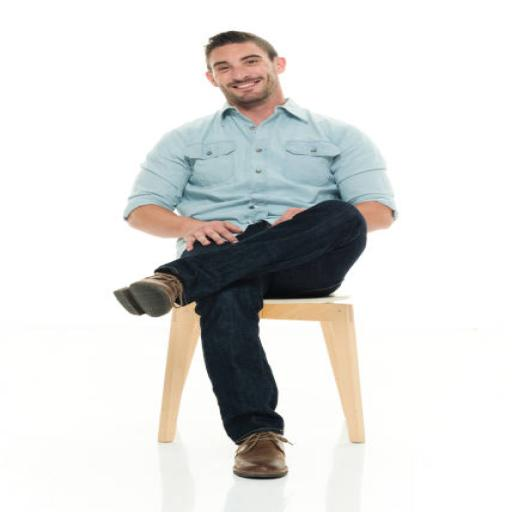person: (114, 29, 397, 479)
